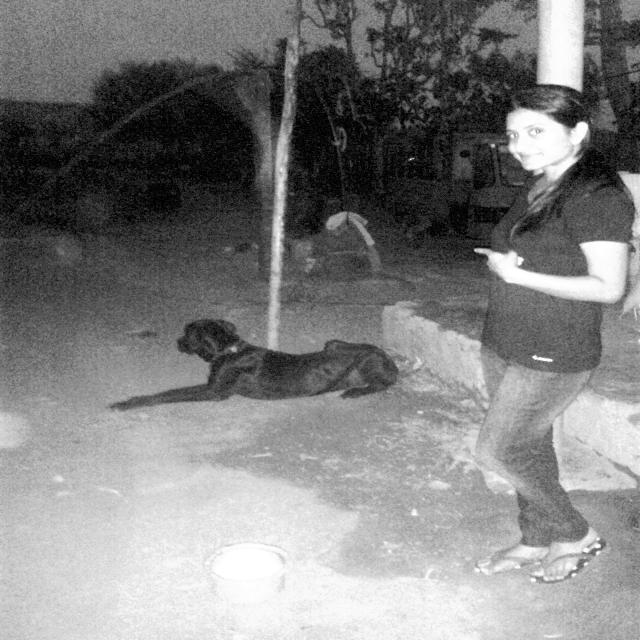Dog: (111, 316, 391, 418)
Person: (472, 80, 627, 588)
